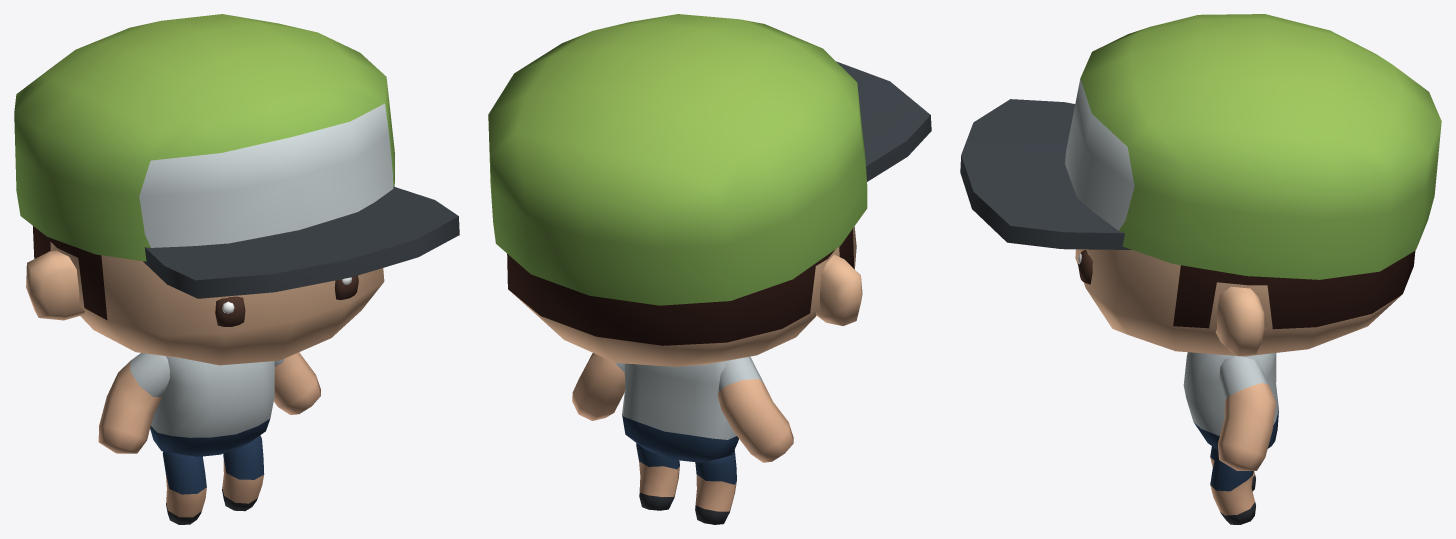
File: idle_0017.obj
3 renders of one model, left to right at view 1: azimuth 30°, elevation 25°; view 2: azimuth 150°, elevation 25°; view 3: azimuth 270°, elevation 25°, orthographic.
Visible parts, largest first — view 1: Object_41, Object_42, Object_36, Object_44, Object_38; view 2: Object_41, Object_44, Object_36, Object_42; view 3: Object_41, Object_36, Object_42, Object_44.
Part boxes in pixels (x1,y1,x2,y2): Object_41: (14, 14, 394, 261); Object_42: (139, 103, 459, 298); Object_36: (26, 226, 384, 365); Object_44: (98, 352, 320, 524); Object_38: (215, 275, 358, 326); Object_41: (488, 14, 867, 305); Object_44: (572, 353, 793, 524); Object_36: (507, 226, 862, 366); Object_42: (836, 61, 931, 181); Object_41: (1080, 14, 1441, 279); Object_36: (1075, 249, 1415, 356); Object_42: (960, 79, 1134, 249); Object_44: (1183, 352, 1278, 524).
Bounding box in the file's own units: 0.9691 × 1.22 × 1.14.
